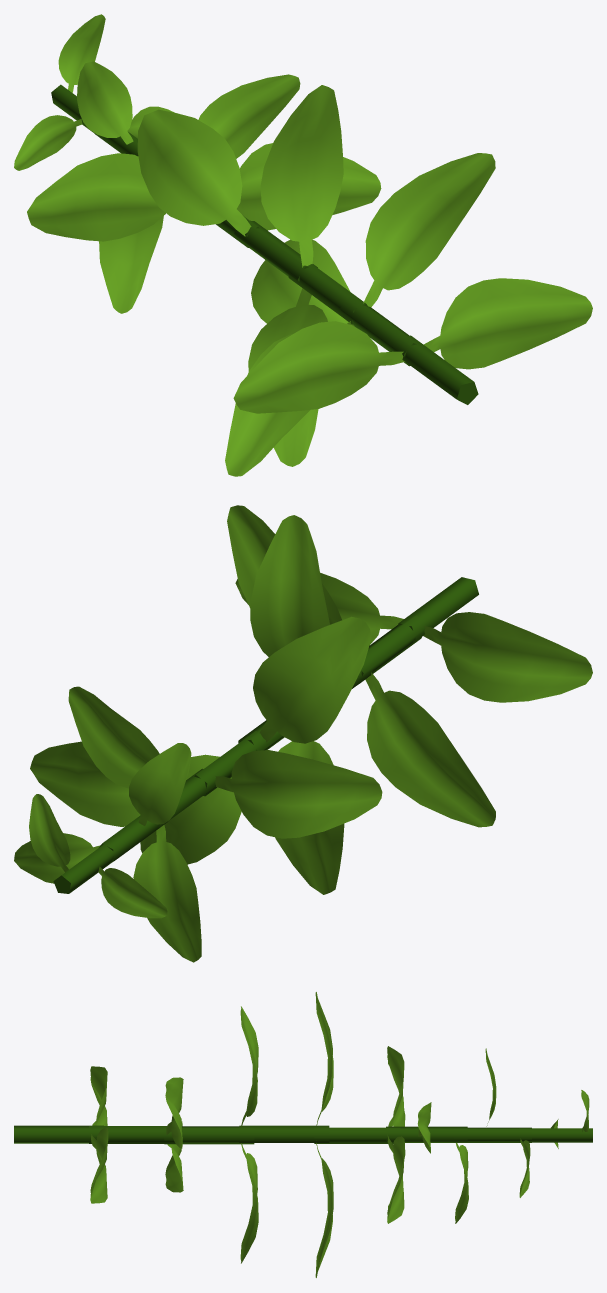
The picture shows the model from 3 angles, top to bottom: view 1: azimuth 30°, elevation 25°; view 2: azimuth 150°, elevation 25°; view 3: azimuth 270°, elevation 25°; orthographic projection. The views are drawn at different scales.
Parts seen in each view (by area): view 1: Root; view 2: Root; view 3: Root.
Boxes of the visible parts, left/top/right/bottom form: Root: left=14, top=14, right=592, bottom=476; Root: left=14, top=505, right=592, bottom=962; Root: left=14, top=992, right=592, bottom=1277.
Bounding box in the file's own units: 953 × 950 × 1874.
